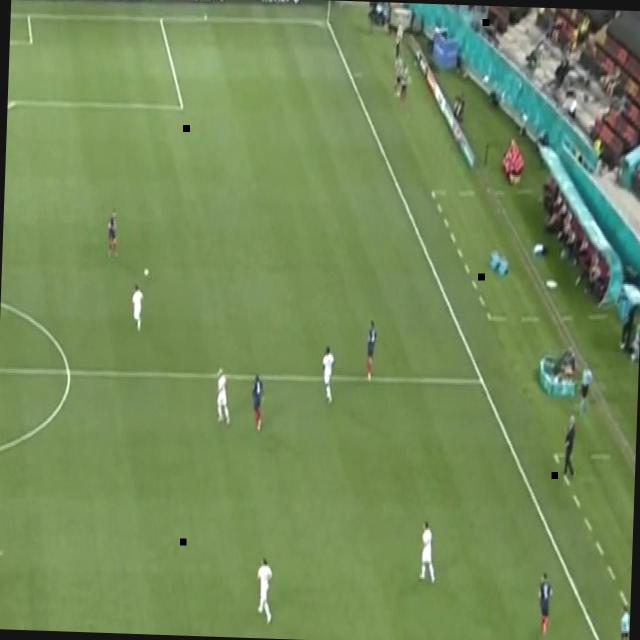ball: (142, 267, 149, 277)
player-white: (254, 555, 275, 625), (417, 519, 439, 585), (534, 572, 554, 638), (213, 366, 233, 426), (250, 369, 266, 430), (364, 318, 379, 382), (320, 344, 336, 404), (579, 357, 594, 413), (130, 282, 145, 334), (106, 208, 121, 258), (619, 601, 630, 640), (0, 541, 6, 609)
